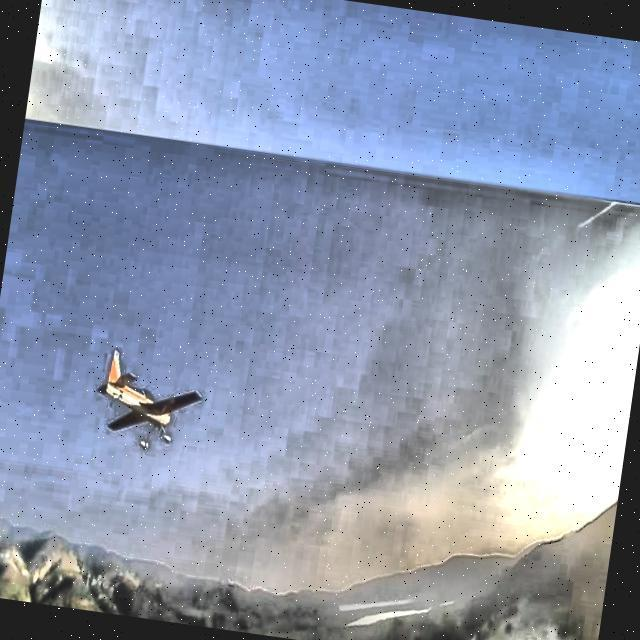iha: (73, 341, 222, 470)
